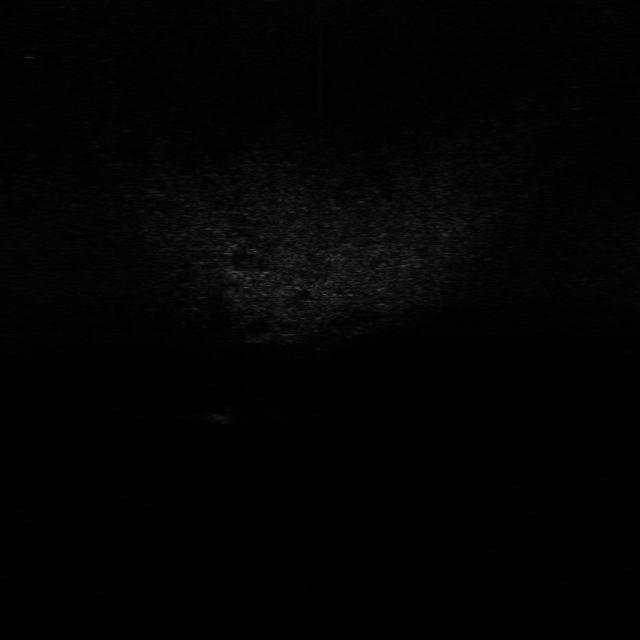cube: (206, 406, 237, 427)
